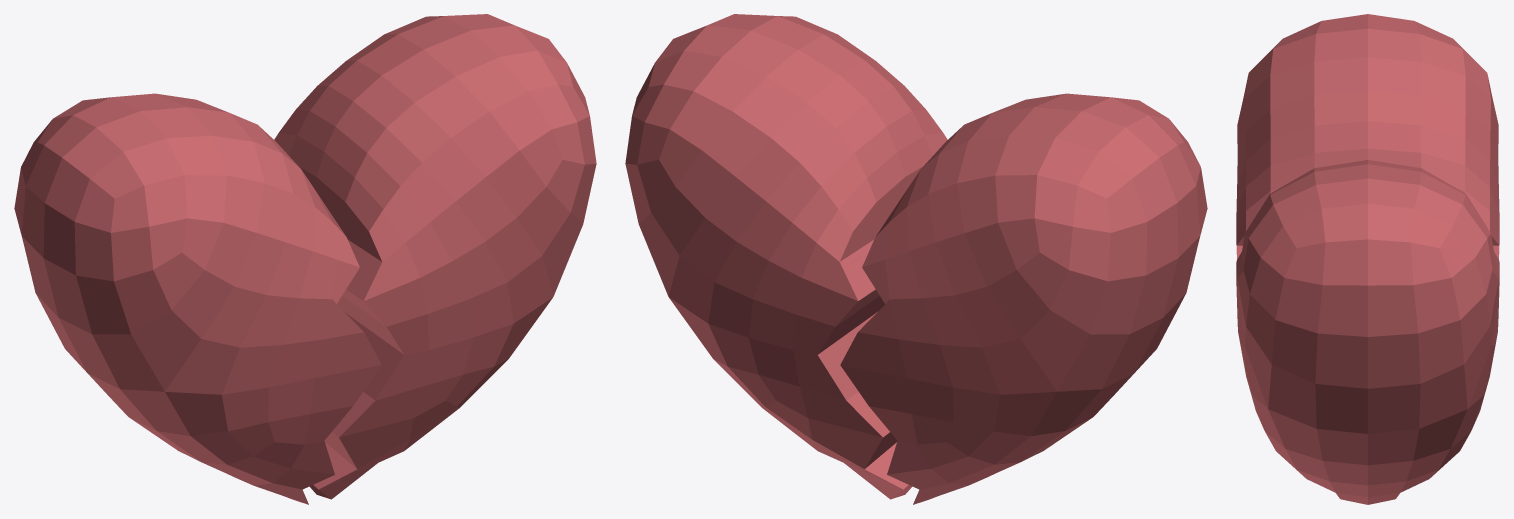
File: SM_Heart_Broken.fbx
3 views of the same model, side by side, from view 1: azimuth 30°, elevation 25°; view 2: azimuth 150°, elevation 25°; view 3: azimuth 270°, elevation 25° (orthographic). The views are drawn at different scales.
Visible parts, largest first — view 1: SM_Heart_Broken; view 2: SM_Heart_Broken; view 3: SM_Heart_Broken.
Part boxes in pixels (x1,y1,x2,y2): SM_Heart_Broken: [14, 14, 596, 504]; SM_Heart_Broken: [625, 14, 1207, 504]; SM_Heart_Broken: [1236, 14, 1499, 504].
Size of the model in its own units: 83.77 by 65.22 by 39.27.
